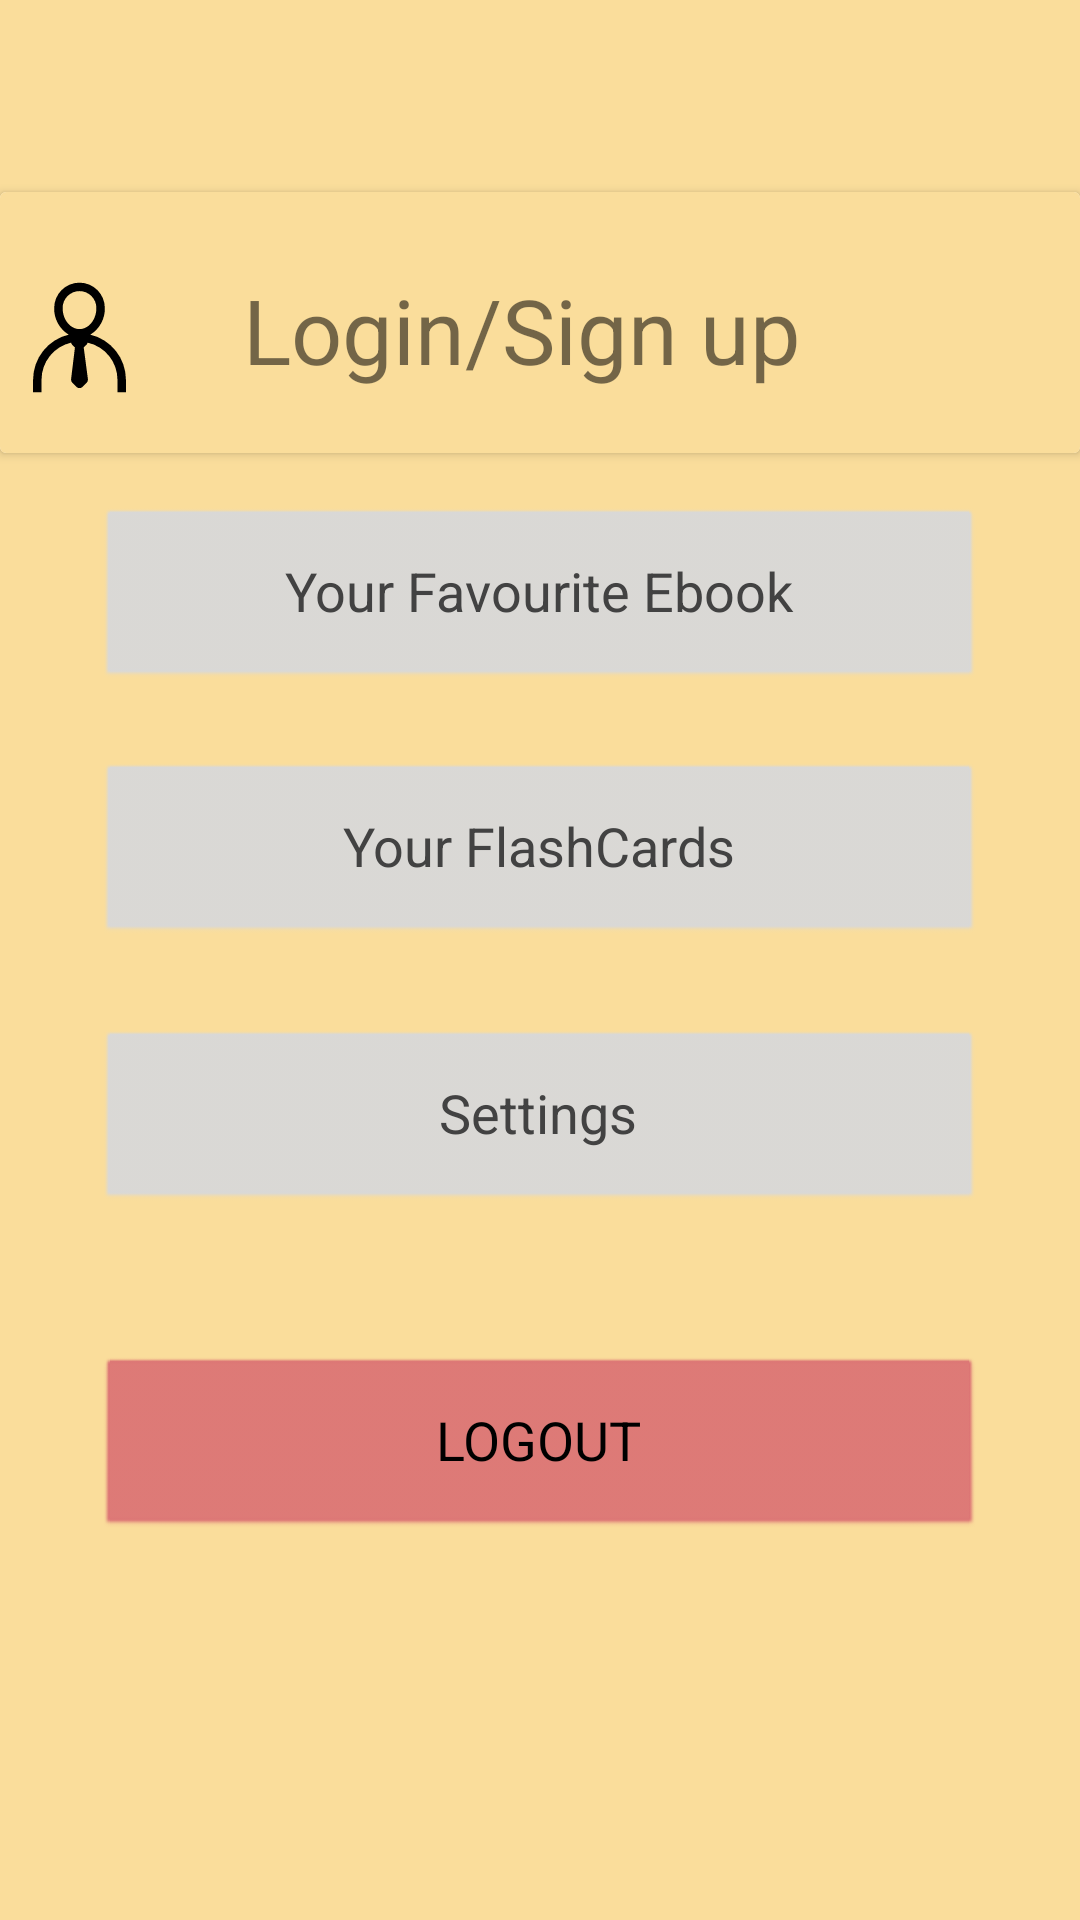

Where icons sit on this 1080*1920 app screen, as (x1, y1, x2, y2):
defuserava: (33, 282, 126, 393)
